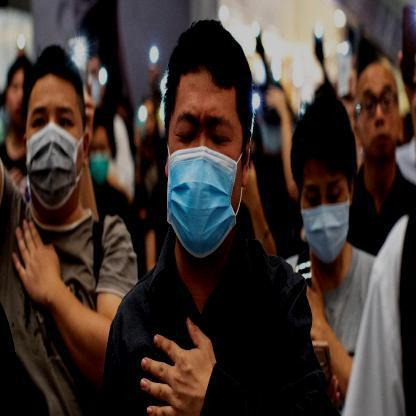with_mask: (161, 15, 259, 267), (21, 40, 93, 218), (293, 95, 360, 273)
without_mask: (354, 58, 404, 170)
